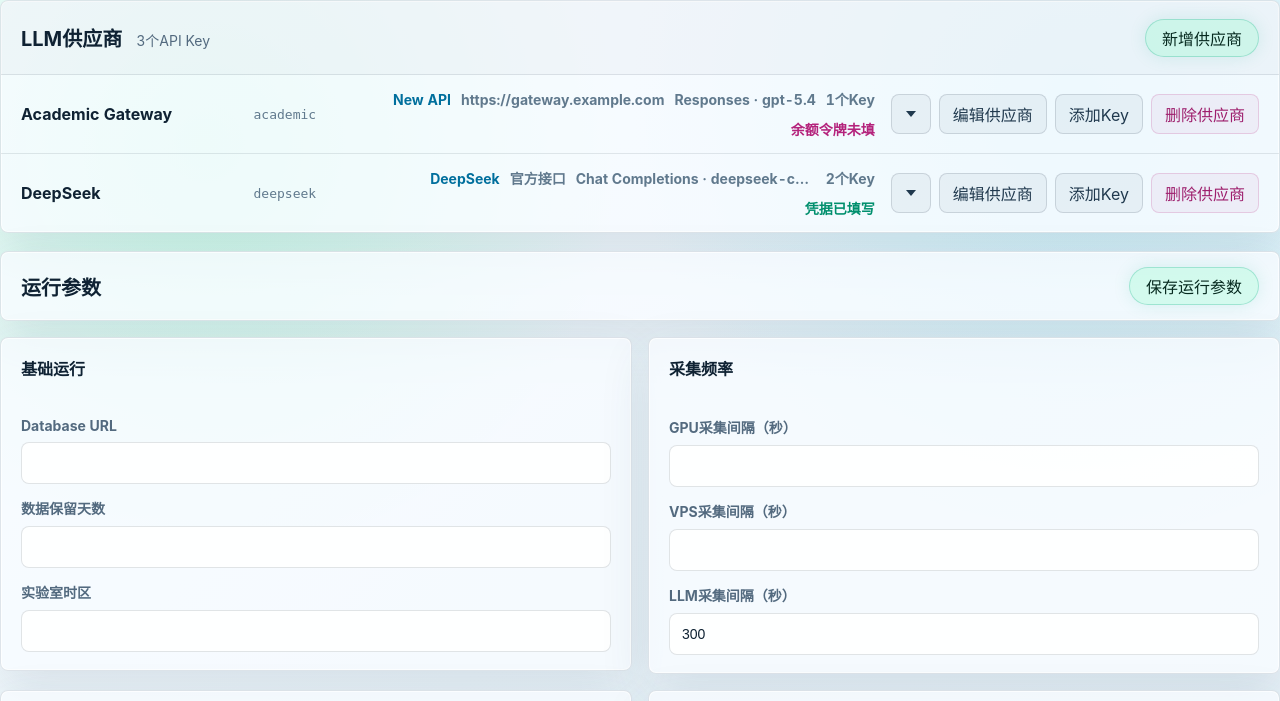
Test: Settings LLM供应商配置 › 保存运行参数后重新加载失败时不显示成功
Check: the heading "LLM供应商" is shown, box [21,23,122,52]
Click the button "保存运行参数" at [1194, 286], box [1129,267,1259,305]
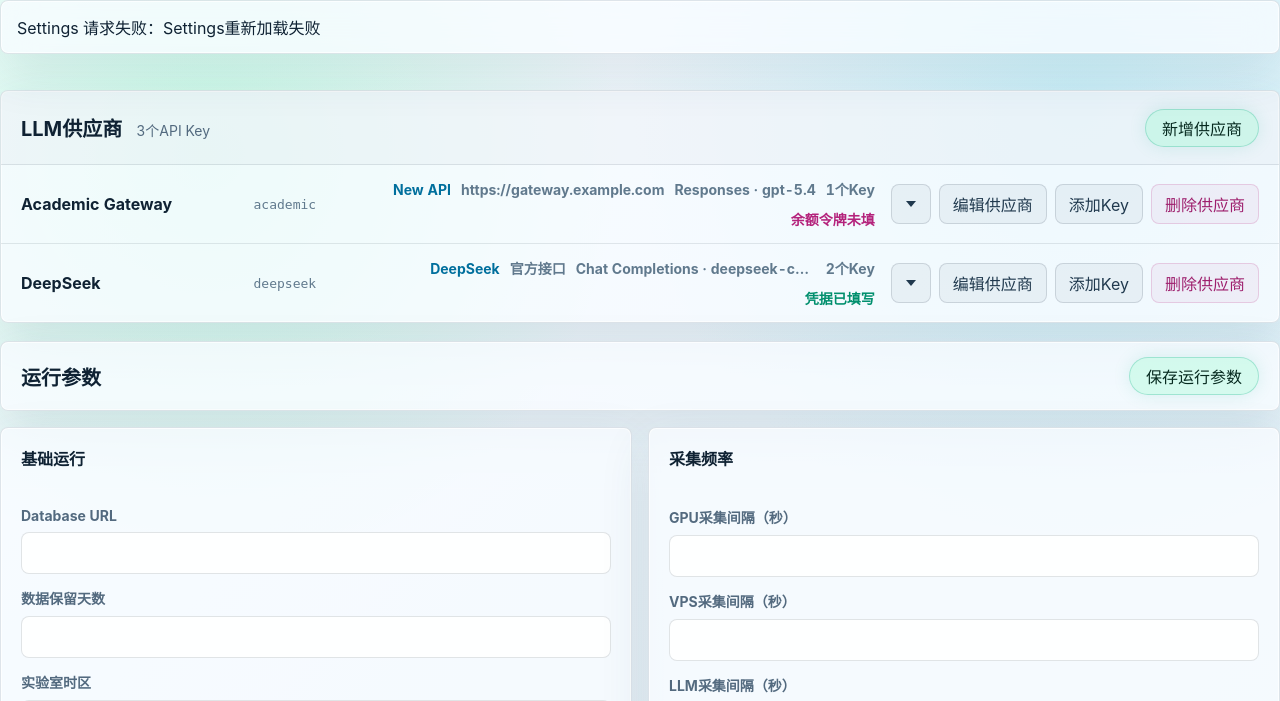
Check: the message shows "Settings重新加载失败", box [163,18,321,38]
